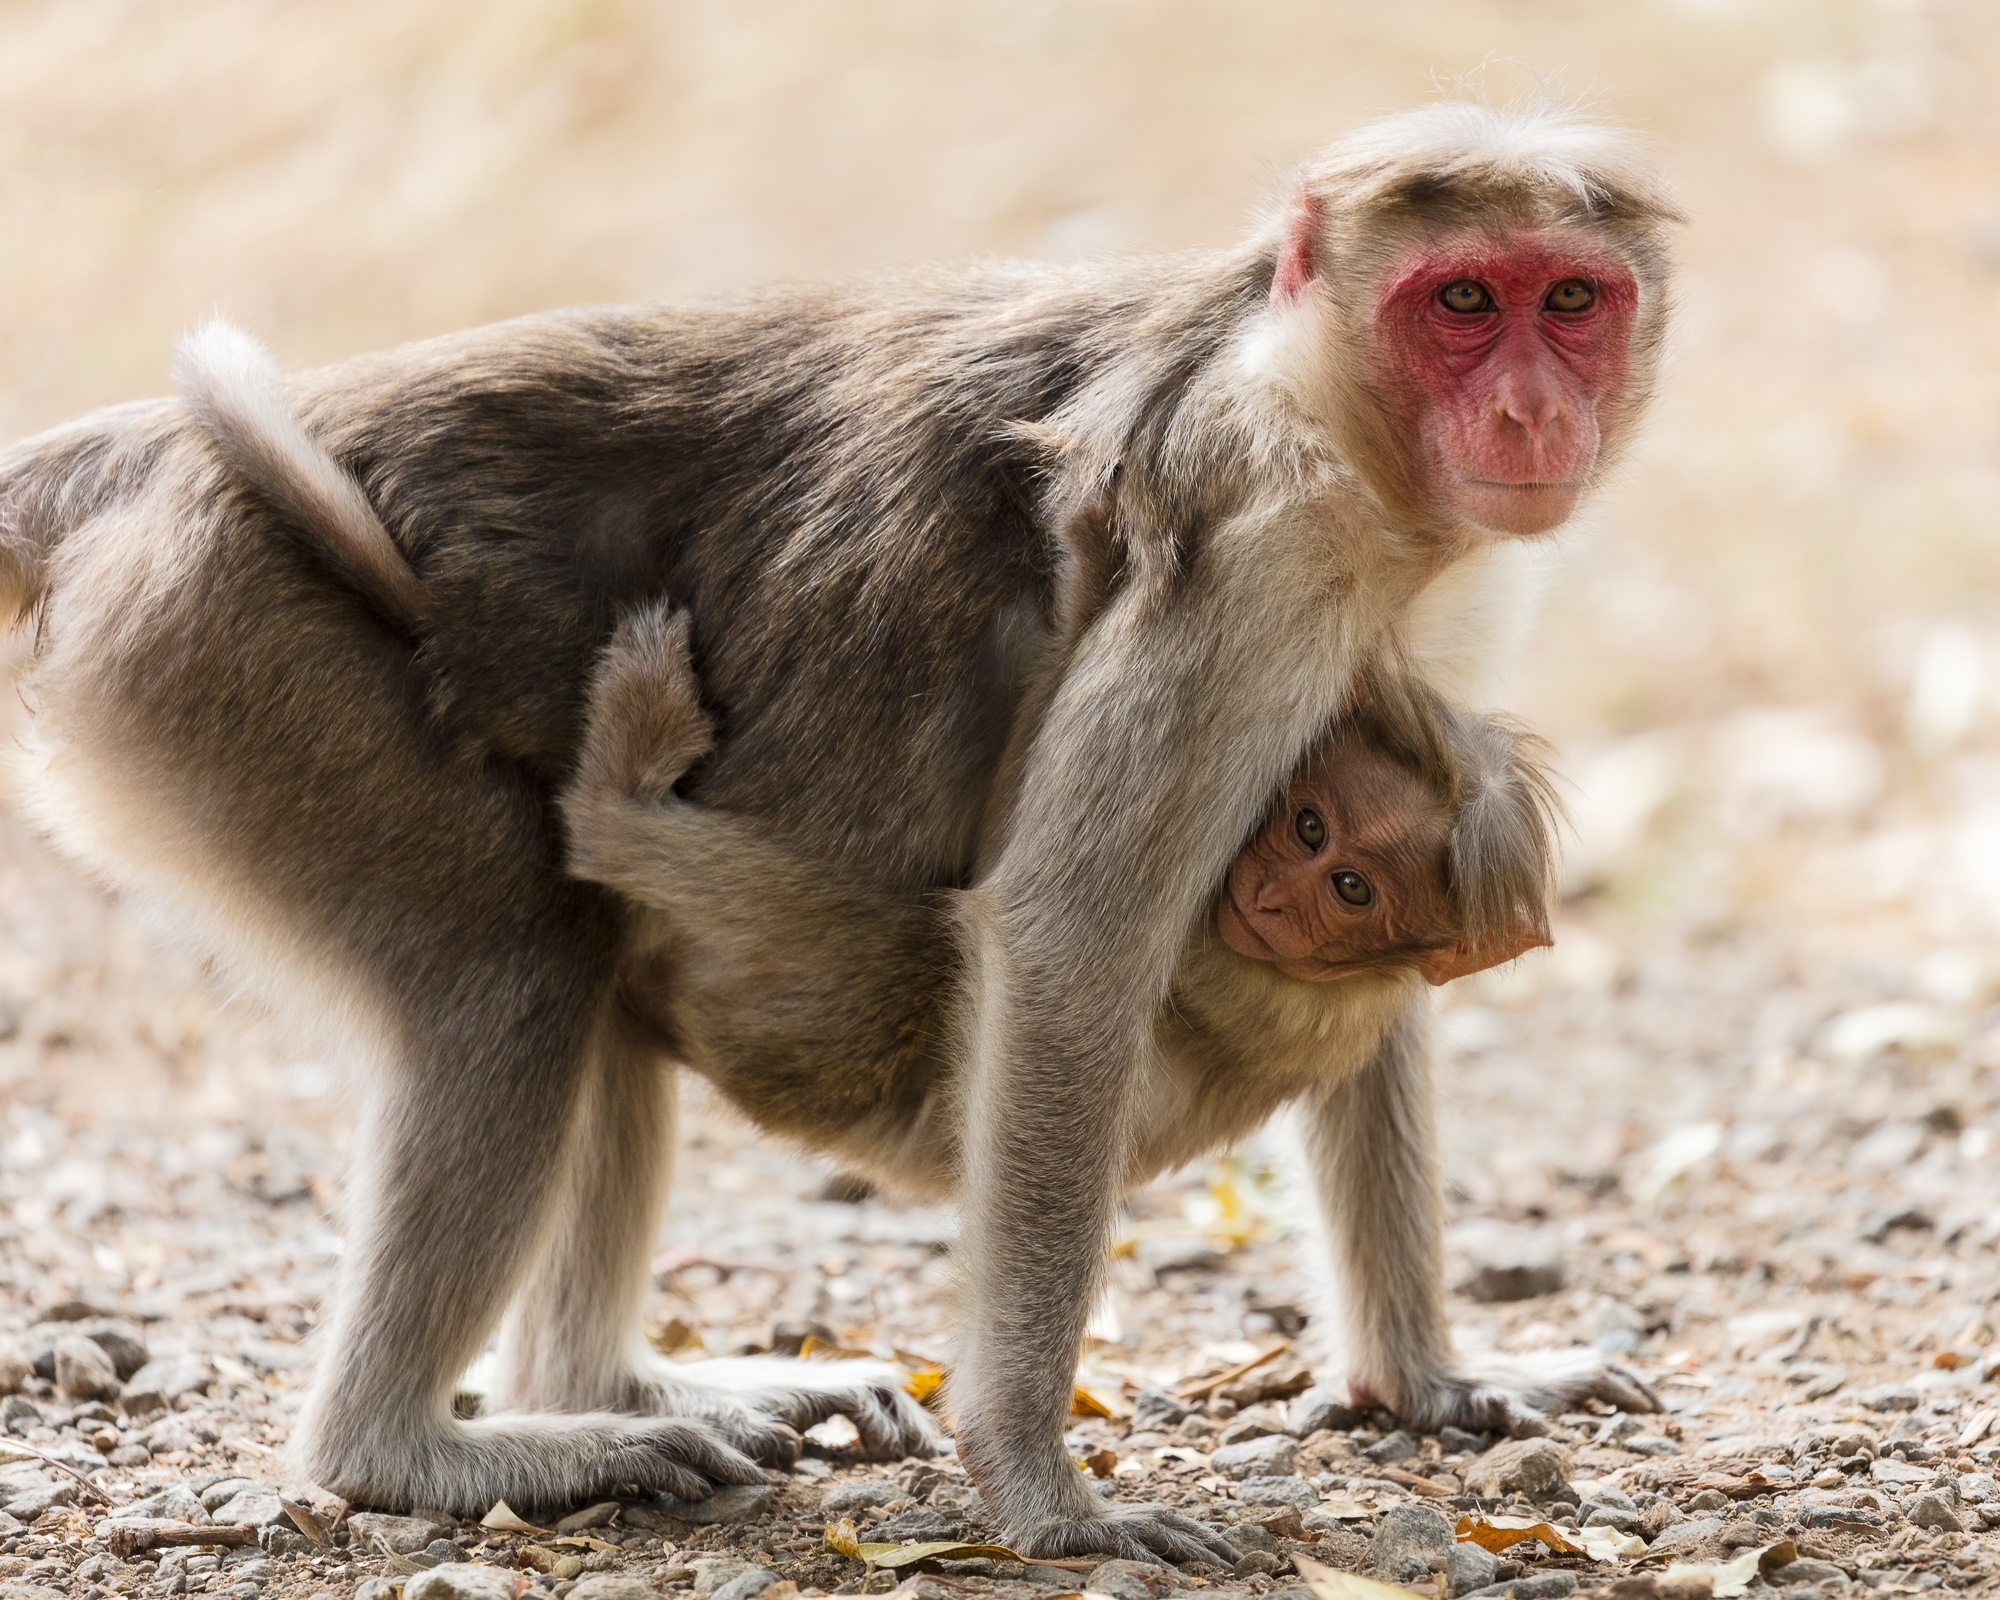monkey: (5, 103, 1747, 1600), (550, 567, 1582, 1231)
